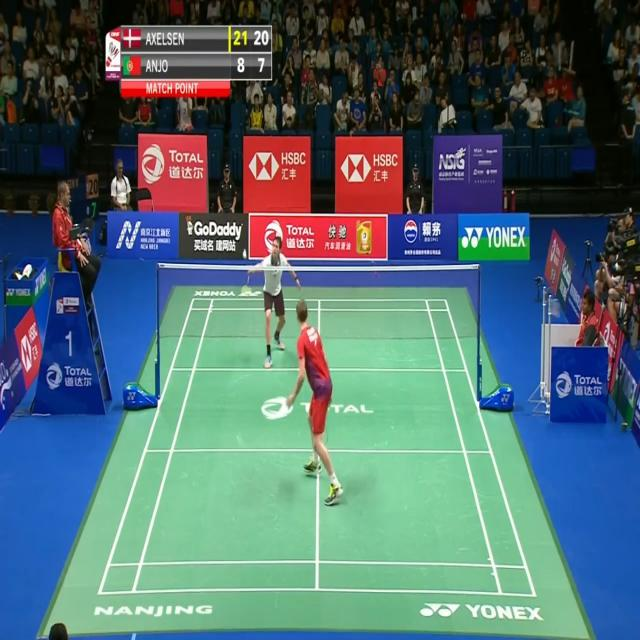Player1: (286, 297, 344, 507)
Player2: (246, 235, 302, 369)
